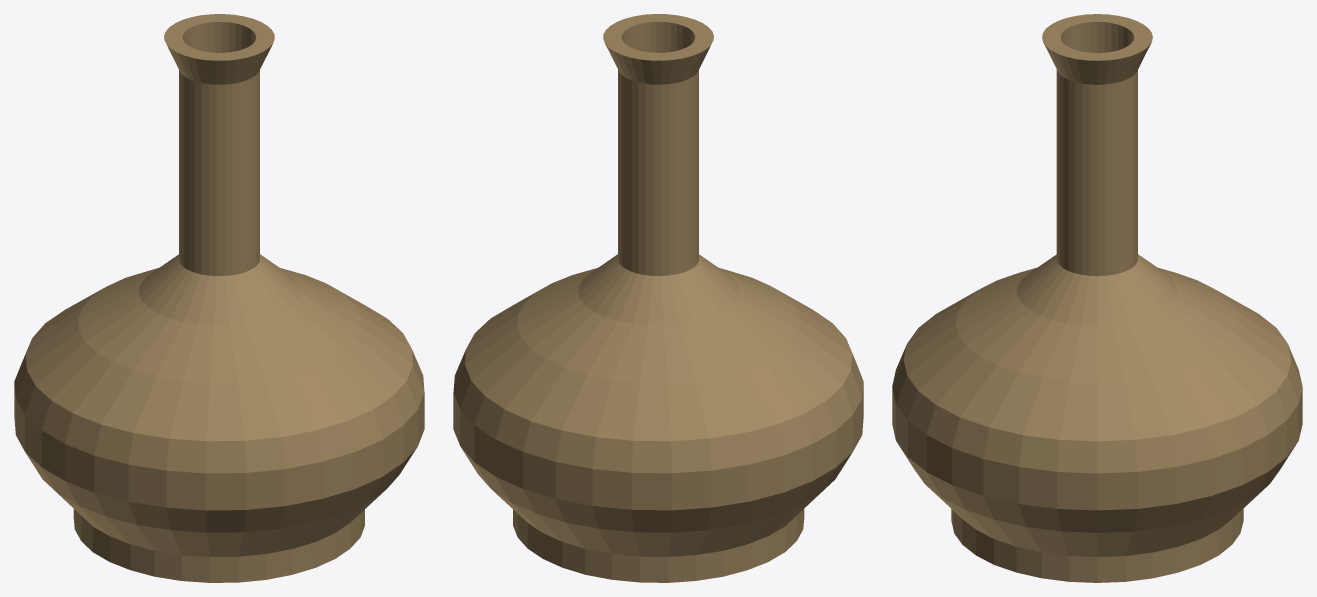
Rendered from Vase_2.glb.
3 renders of one model, left to right at view 1: azimuth 30°, elevation 25°; view 2: azimuth 150°, elevation 25°; view 3: azimuth 270°, elevation 25°, orthographic.
Parts seen in each view (by area): view 1: vase_2.001; view 2: vase_2.001; view 3: vase_2.001.
Boxes of the visible parts, x1,y1,x2,y2 form: vase_2.001: (14, 14, 424, 582); vase_2.001: (453, 14, 863, 582); vase_2.001: (892, 14, 1302, 582).
Size of the model in its own units: 0.6964 by 0.9055 by 0.6964.
